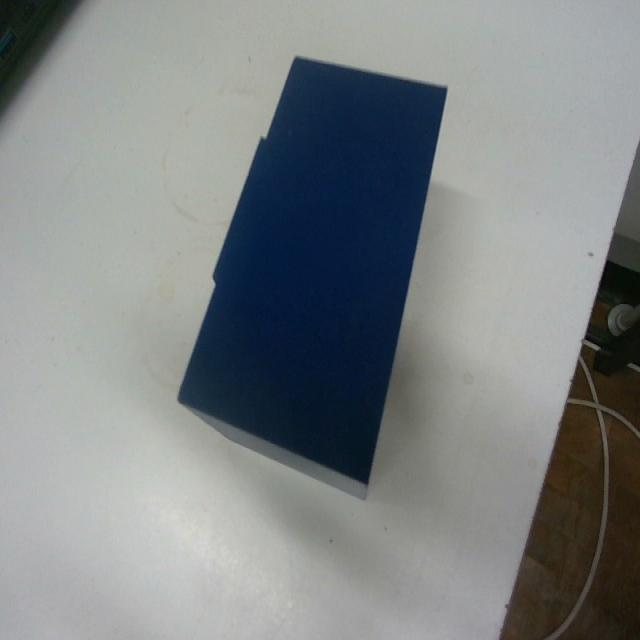Blue Cuboid: (176, 52, 448, 500)
